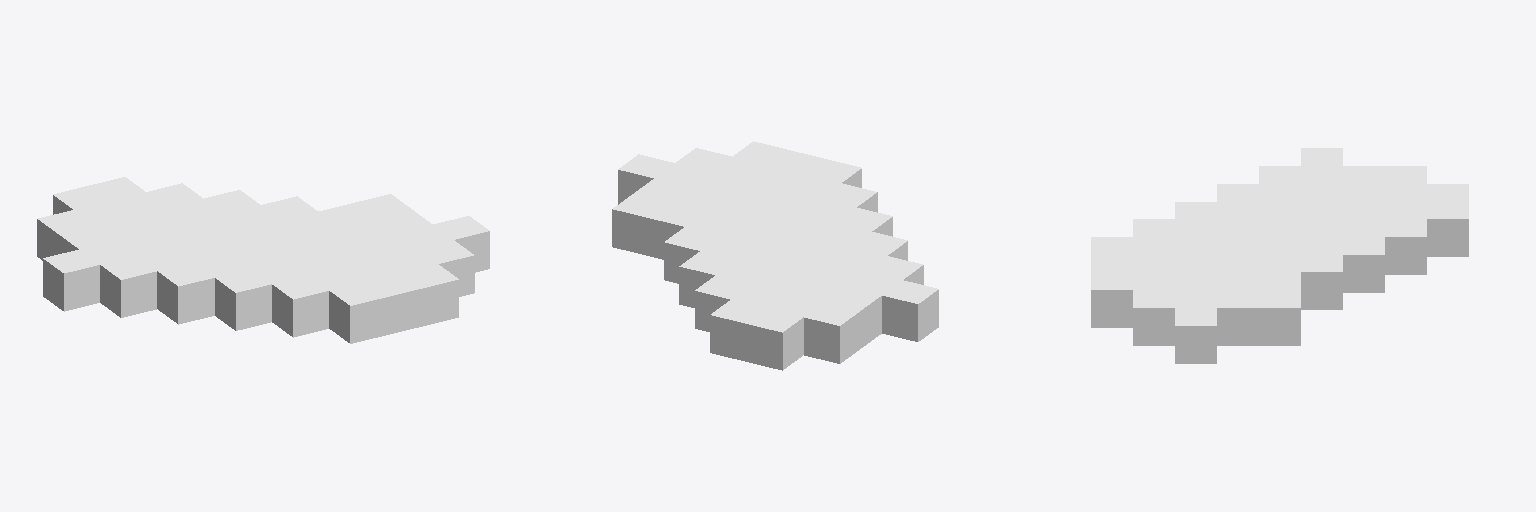
The model's file is RawMeat.obj.
The picture shows the model from 3 angles: view 1: azimuth 30°, elevation 25°; view 2: azimuth 150°, elevation 25°; view 3: azimuth 270°, elevation 25°; orthographic projection.
Bounding box in the file's own units: 10 × 1 × 9.